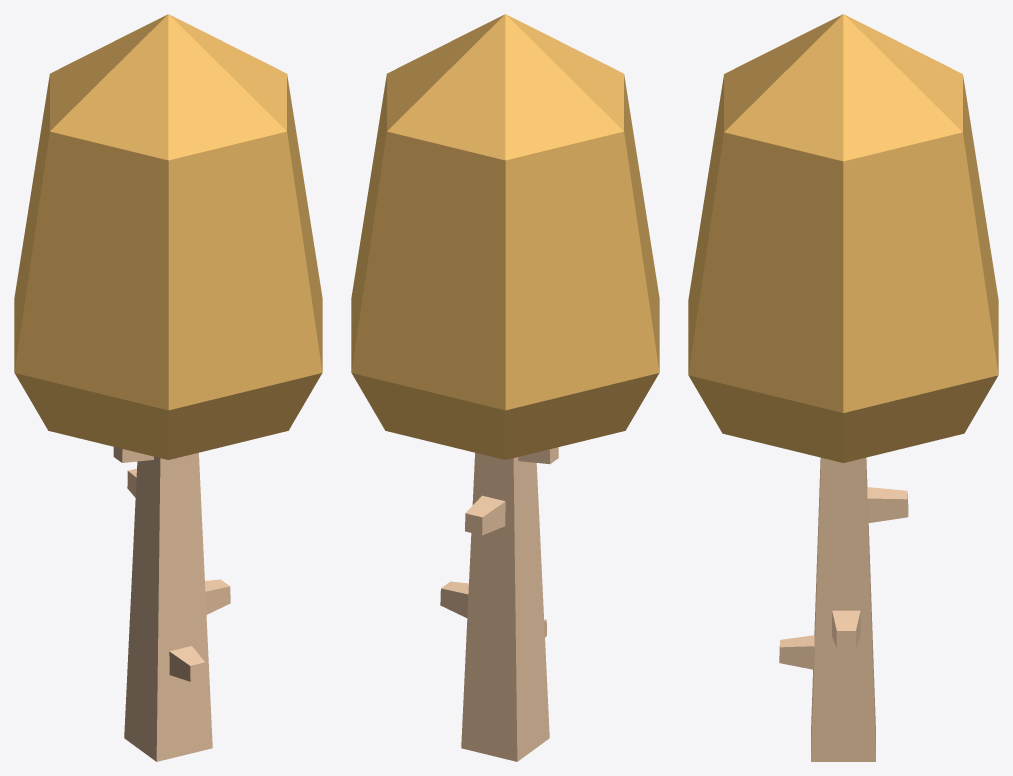
File: tree_default_fall.gltf
3 views of the same model, side by side, from view 1: azimuth 30°, elevation 25°; view 2: azimuth 150°, elevation 25°; view 3: azimuth 270°, elevation 25° (orthographic).
Visible parts, largest first — view 1: tree_default_fall; view 2: tree_default_fall; view 3: tree_default_fall.
Boxes of the visible parts, x1=… form: tree_default_fall: x1=14, y1=14, x2=322, y2=761; tree_default_fall: x1=351, y1=14, x2=659, y2=761; tree_default_fall: x1=688, y1=14, x2=998, y2=761.
Size of the model in its own units: 0.755 by 1.71 by 0.6538.
